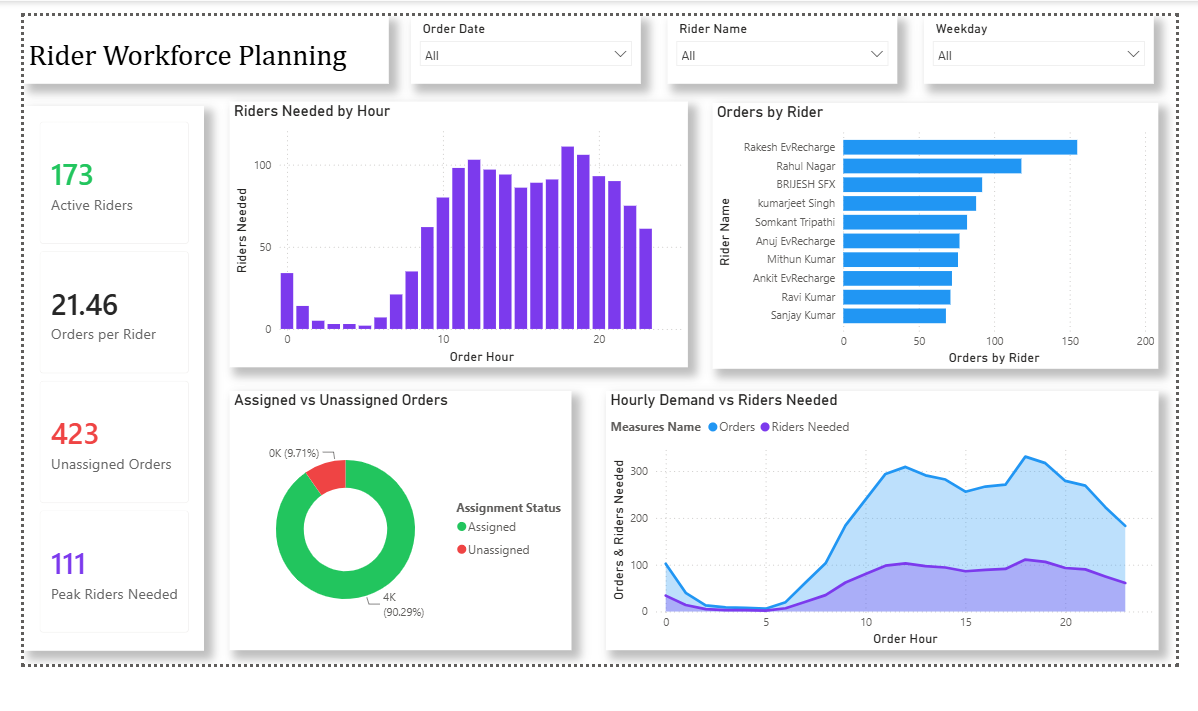

The page's visual inventory and layout, read from the dashboard file:
{"tool":"powerbi","page":{"name":"Rider Workforce Planning","canvas":[1280,720],"ordinal":3},"visuals":[{"type":"textbox","box":[0,0,405,75],"z":0},{"type":"cardVisual","fields":{"Data":["_Measures.Active Riders","_Measures.Orders per Rider","_Measures.Unassigned Orders","_Measures.Peak Rider Needed"]},"box":[0,100,200,605],"z":1000},{"type":"slicer","fields":{"Values":["Orders.Rider Name"]},"box":[715,0,255,75.6],"z":2000},{"type":"slicer","fields":{"Values":["Orders.Order Date"]},"box":[430,0,255,75.6],"z":3000},{"type":"slicer","fields":{"Values":["Orders.Weekday"]},"box":[1000,0,255,75.6],"z":4000},{"type":"clusteredColumnChart","title":"Riders Needed by Hour","fields":{"Category":["Orders.Order Hour"],"Y":["_Measures.Riders Needed This Hour"]},"box":[227.7,95.4,509.2,295.4],"z":5000},{"type":"donutChart","title":"Assigned vs Unassigned Orders","fields":{"Category":["Orders.Assignment Status"],"Y":["_Measures.Total Orders"]},"box":[227.7,416.9,380,287.7],"z":6000},{"type":"areaChart","title":"Hourly Demand vs Riders Needed","fields":{"Category":["Orders.Order Hour"],"Y":["_Measures.Orders by Hour","_Measures.Riders Needed This Hour"]},"box":[646.2,416.9,613.8,287.7],"z":7000},{"type":"clusteredBarChart","title":"Orders by Rider","fields":{"Category":["Orders.Rider Name"],"Y":["_Measures.Orders by Rider"]},"box":[765,96,495.4,295],"z":8000}]}

Visuals, with their boxes on the page's 1280x720 design canvas (x1, y1, x2, y2). These are canvas units, not pixel positions in the 1198x711 screenshot, which may show the page scaled, cropped or inside an application window:
textbox: bbox=(0, 0, 405, 75)
cardVisual - _Measures.Active Riders x _Measures.Orders per Rider: bbox=(0, 100, 200, 705)
slicer - Orders.Rider Name: bbox=(715, 0, 970, 76)
slicer - Orders.Order Date: bbox=(430, 0, 685, 76)
slicer - Orders.Weekday: bbox=(1000, 0, 1255, 76)
"Riders Needed by Hour" clusteredColumnChart: bbox=(228, 95, 737, 391)
"Assigned vs Unassigned Orders" donutChart: bbox=(228, 417, 608, 705)
"Hourly Demand vs Riders Needed" areaChart: bbox=(646, 417, 1260, 705)
"Orders by Rider" clusteredBarChart: bbox=(765, 96, 1260, 391)
